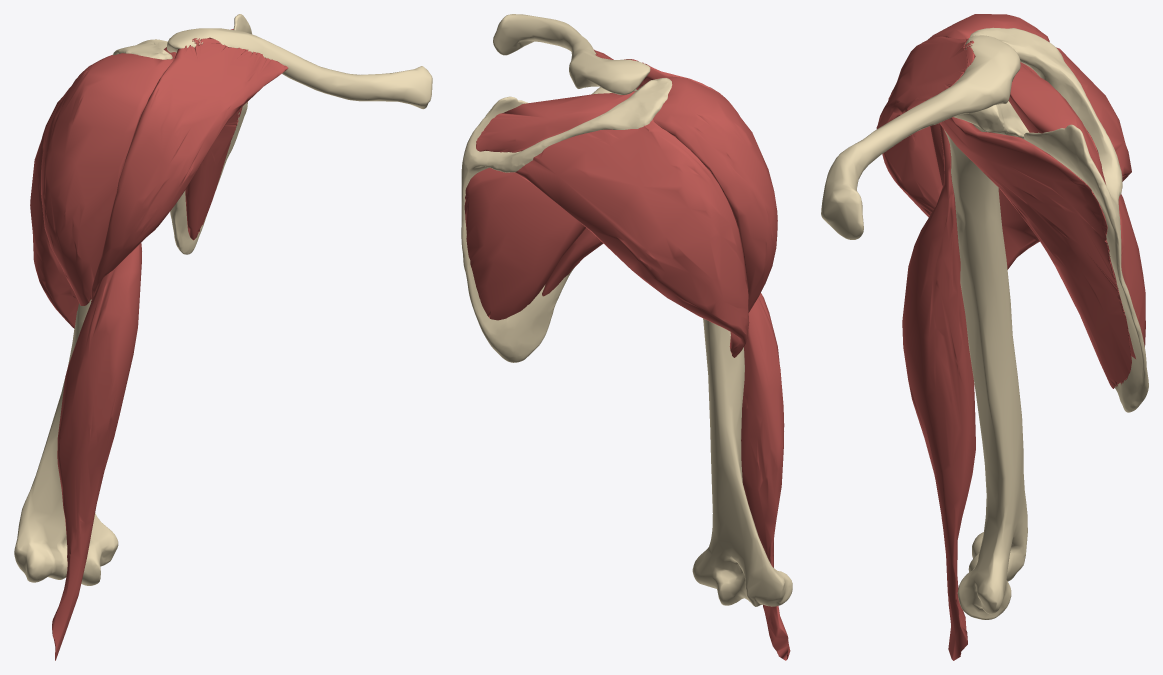
The model's file is shoulder-right.glb.
3 views of the same model, side by side, from view 1: azimuth 30°, elevation 25°; view 2: azimuth 150°, elevation 25°; view 3: azimuth 270°, elevation 25° (orthographic). The views are drawn at different scales.
Visible parts, largest first — view 1: deltoid__FJ1468_0, deltoid__FJ1467_0, biceps-long-head-muscle__FJ1478_0, humerus__FJ3368_0, clavicle__FJ3362_0, deltoid__FJ1513_0, subscapularis__FJ1504_0, scapula__FJ3384_0; view 2: deltoid__FJ1513_0, humerus__FJ3368_0, infraspinatus__FJ1500_0, deltoid__FJ1467_0, scapula__FJ3384_0, biceps-long-head-muscle__FJ1478_0, clavicle__FJ3362_0, supraspinatus__FJ1506_0, teres-minor__FJ1508_0, deltoid__FJ1468_0; view 3: humerus__FJ3368_0, biceps-long-head-muscle__FJ1478_0, subscapularis__FJ1504_0, scapula__FJ3384_0, clavicle__FJ3362_0, deltoid__FJ1468_0, supraspinatus__FJ1506_0, deltoid__FJ1513_0, infraspinatus__FJ1500_0, deltoid__FJ1467_0.
Part boxes in pixels (x1=…): deltoid__FJ1468_0: x1=91, y1=37, x2=288, y2=301; deltoid__FJ1467_0: x1=41, y1=53, x2=173, y2=305; biceps-long-head-muscle__FJ1478_0: x1=52, y1=243, x2=141, y2=660; humerus__FJ3368_0: x1=14, y1=299, x2=118, y2=585; clavicle__FJ3362_0: x1=166, y1=28, x2=432, y2=109; deltoid__FJ1513_0: x1=30, y1=54, x2=112, y2=328; subscapularis__FJ1504_0: x1=185, y1=107, x2=242, y2=240; scapula__FJ3384_0: x1=113, y1=14, x2=251, y2=254; deltoid__FJ1513_0: x1=514, y1=119, x2=749, y2=357; humerus__FJ3368_0: x1=692, y1=318, x2=792, y2=606; infraspinatus__FJ1500_0: x1=464, y1=167, x2=585, y2=320; deltoid__FJ1467_0: x1=653, y1=76, x2=777, y2=312; scapula__FJ3384_0: x1=461, y1=78, x2=672, y2=362; biceps-long-head-muscle__FJ1478_0: x1=741, y1=293, x2=790, y2=660; clavicle__FJ3362_0: x1=493, y1=14, x2=650, y2=94; supraspinatus__FJ1506_0: x1=476, y1=91, x2=635, y2=152; teres-minor__FJ1508_0: x1=542, y1=228, x2=603, y2=296; deltoid__FJ1468_0: x1=594, y1=49, x2=739, y2=115; humerus__FJ3368_0: x1=944, y1=130, x2=1027, y2=619; biceps-long-head-muscle__FJ1478_0: x1=902, y1=123, x2=975, y2=660; subscapularis__FJ1504_0: x1=939, y1=117, x2=1131, y2=388; scapula__FJ3384_0: x1=953, y1=27, x2=1148, y2=412; clavicle__FJ3362_0: x1=821, y1=35, x2=1020, y2=239; deltoid__FJ1468_0: x1=876, y1=36, x2=975, y2=217; supraspinatus__FJ1506_0: x1=1008, y1=62, x2=1105, y2=184; deltoid__FJ1513_0: x1=998, y1=47, x2=1131, y2=269; infraspinatus__FJ1500_0: x1=1023, y1=63, x2=1145, y2=358; deltoid__FJ1467_0: x1=928, y1=14, x2=1049, y2=185.
Bounding box in the file's own units: 6.01 × 9.4 × 3.95.
